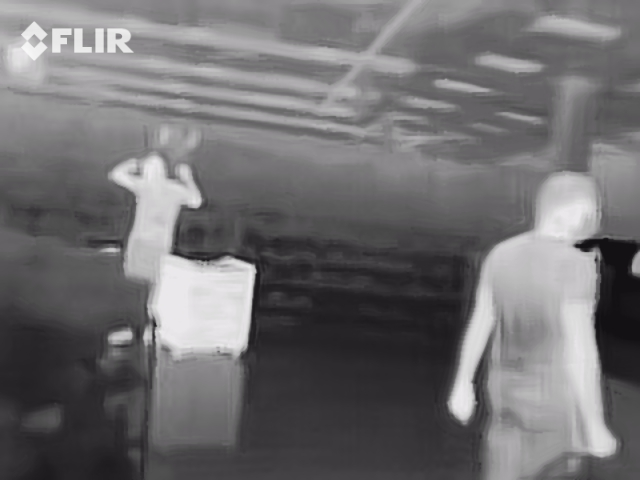head: (530, 169, 604, 240)
